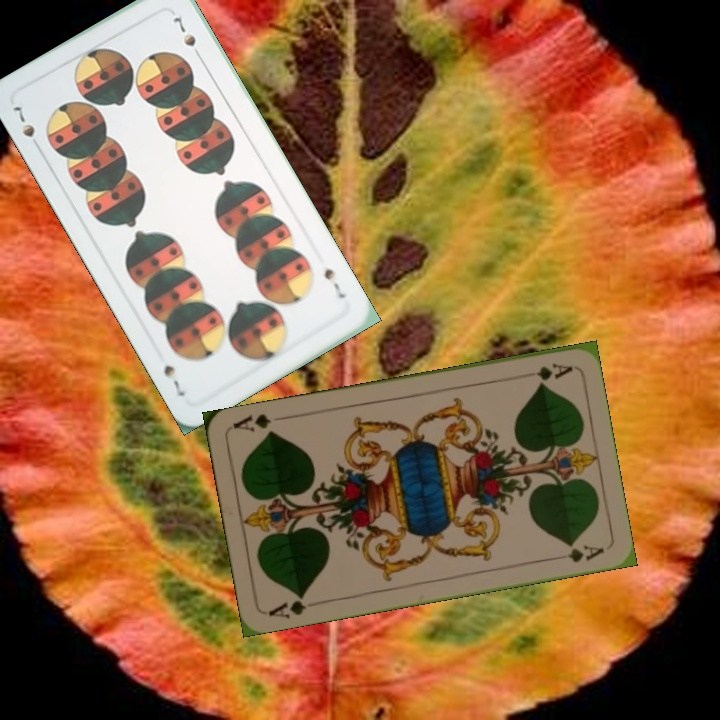GA: (264, 590, 323, 621), (532, 359, 575, 384)
S7: (8, 101, 44, 154), (320, 264, 348, 302)
